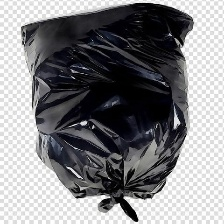plastic_bag: (17, 2, 197, 222)
